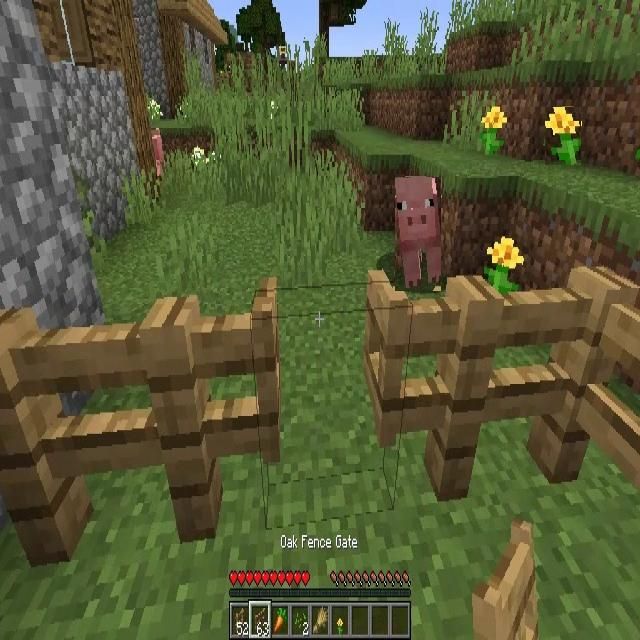flower: (486, 238, 525, 294), (546, 107, 582, 165), (482, 106, 508, 154)
pig: (396, 177, 442, 291)
